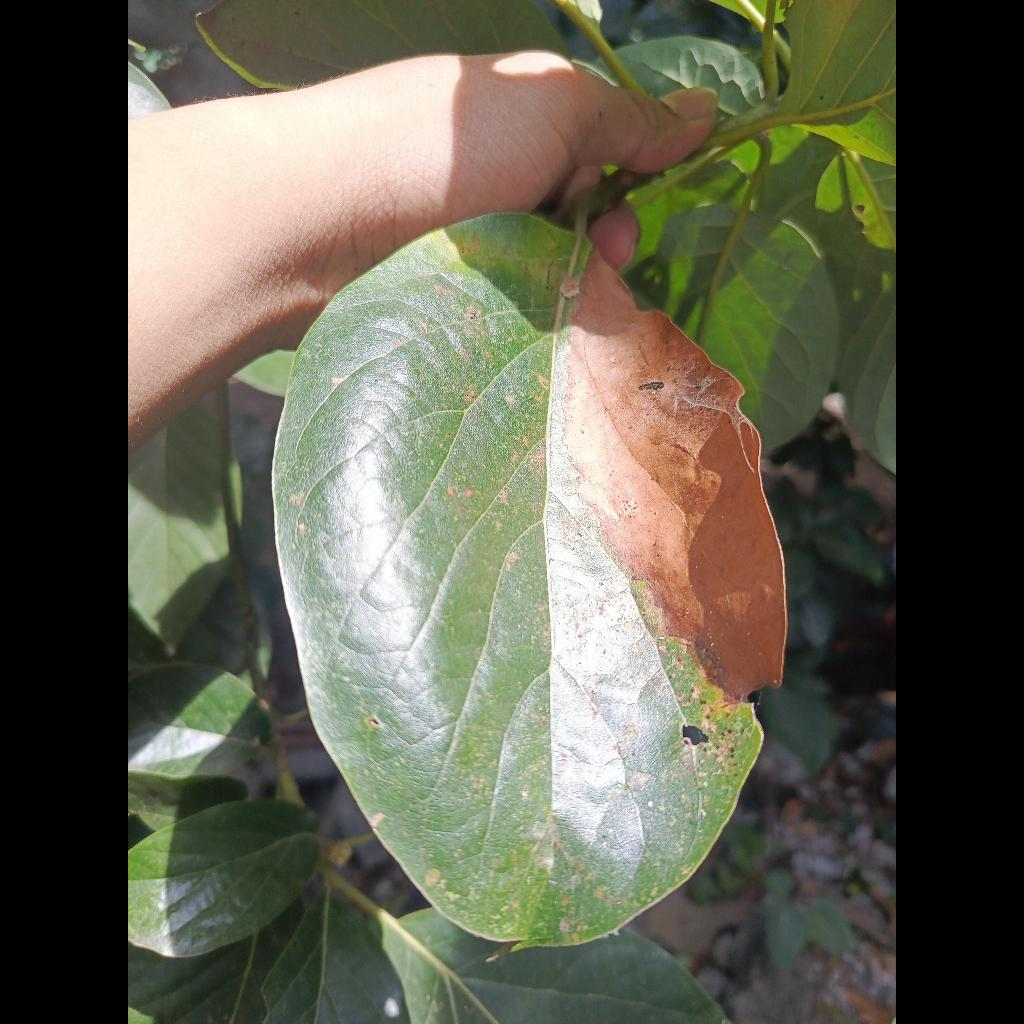Anthracnose: (274, 215, 784, 947)
